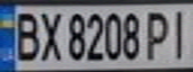0: (103, 9, 124, 61)
2: (84, 9, 106, 61)
8: (63, 8, 87, 62), (121, 8, 145, 61)
B: (9, 8, 42, 62)
I: (166, 6, 193, 61)
P: (142, 7, 175, 61)
X: (36, 8, 63, 62)
